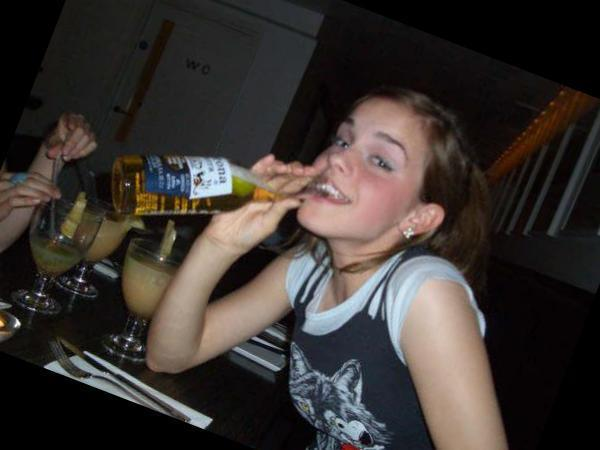Drunk: (302, 105, 407, 231)
